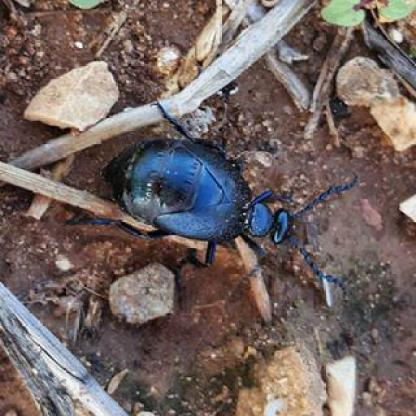beetle: (91, 106, 329, 287)
